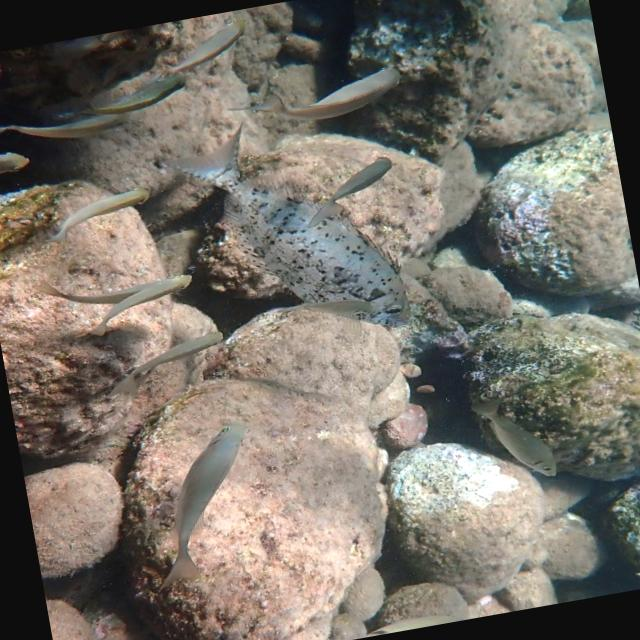Sokar Baligi: (158, 99, 438, 372), (122, 410, 288, 598)
